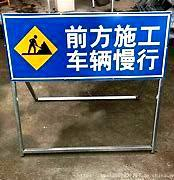sign: (3, 14, 170, 77)
